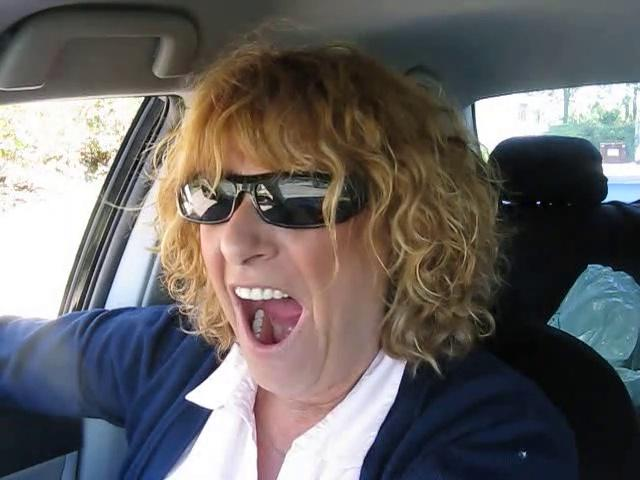yawn: (217, 275, 319, 360)
